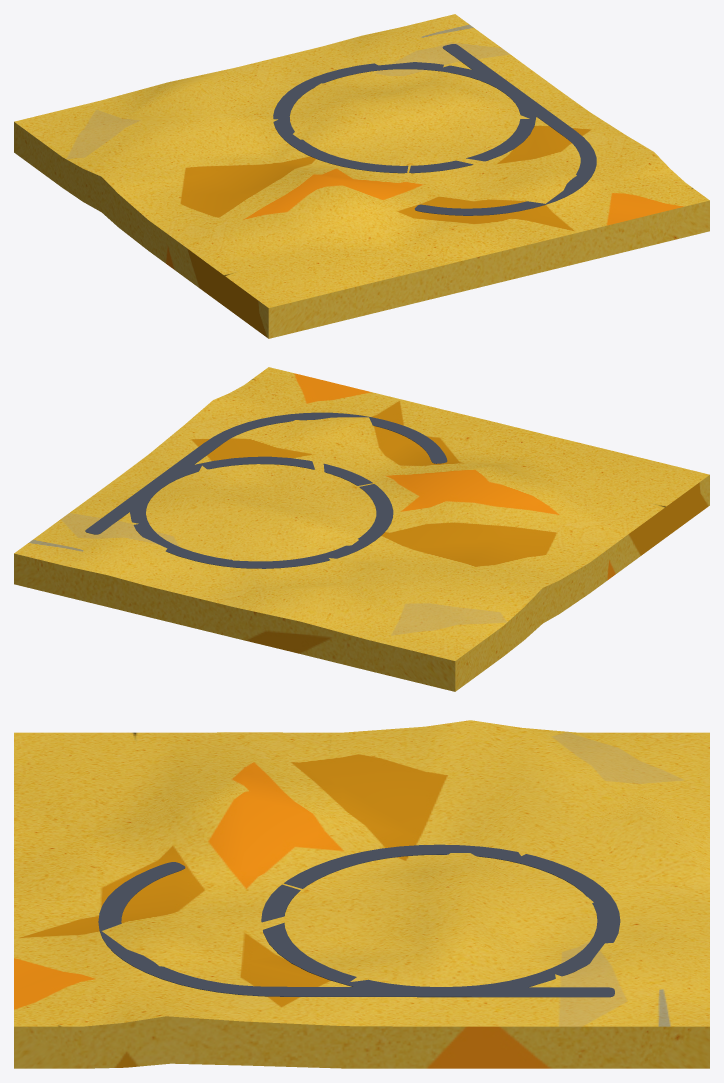
The picture shows the model from 3 angles, top to bottom: view 1: azimuth 30°, elevation 25°; view 2: azimuth 150°, elevation 25°; view 3: azimuth 270°, elevation 25°; orthographic projection. The views are drawn at different scales.
Visible parts, largest first — view 1: Box007, Text007; view 2: Box007, Text007; view 3: Box007, Text007.
Boxes of the visible parts, x1,y1,x2,y2 form: Box007: (14,14,709,338); Text007: (273,44,596,215); Box007: (14,367,709,691); Text007: (85,412,447,568); Box007: (14,720,709,1068); Text007: (98,844,620,997).
Size of the model in its own units: 381 by 49.65 by 381.
